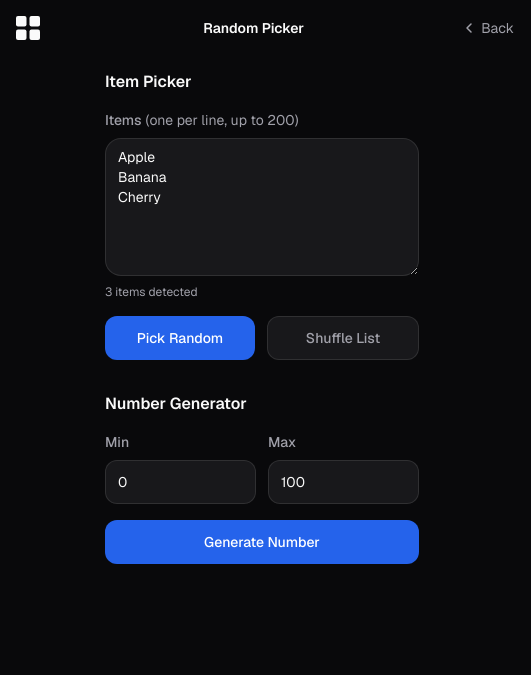
Test case: RandomPickerTool › copy payload format › displays picked item text as the result (copy payload is item text)
Click the button with aria-label "pick a random item". click: (180, 338)
box: [105,316,255,360]
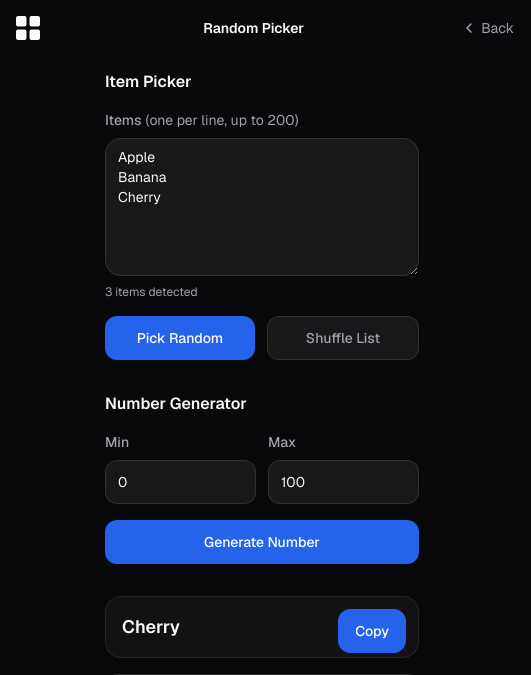
Now the text "Cherry" is shown, box [122,615,180,638]
